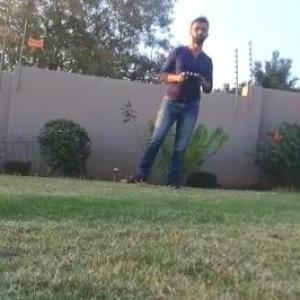follow: (130, 11, 215, 193)
